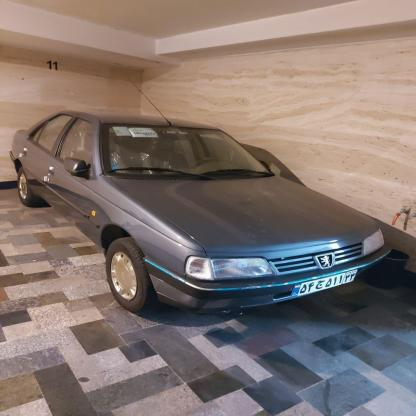Car: (0, 107, 393, 320)
